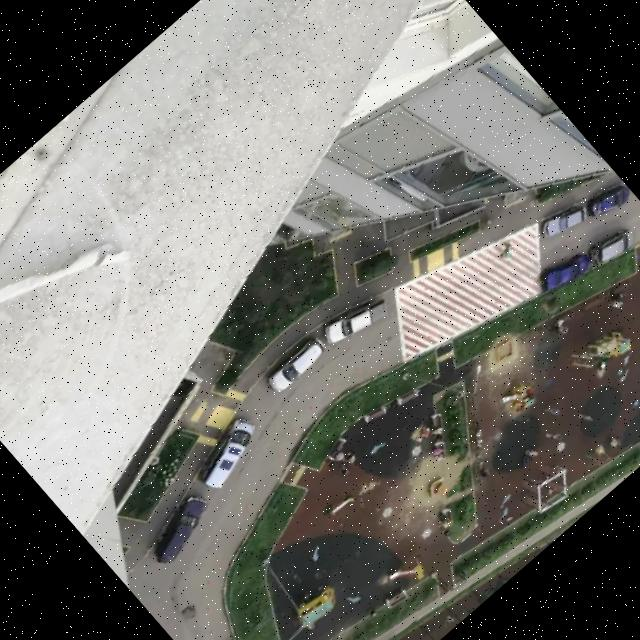car: (196, 418, 256, 490), (154, 495, 210, 564), (267, 337, 326, 393), (325, 296, 390, 345), (539, 251, 588, 291), (589, 229, 633, 264), (587, 184, 631, 218), (543, 204, 587, 237)
